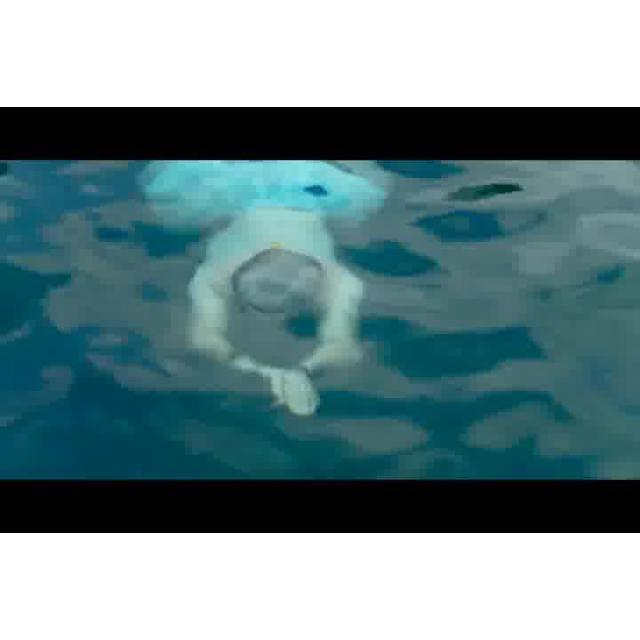human: (141, 155, 386, 417)
